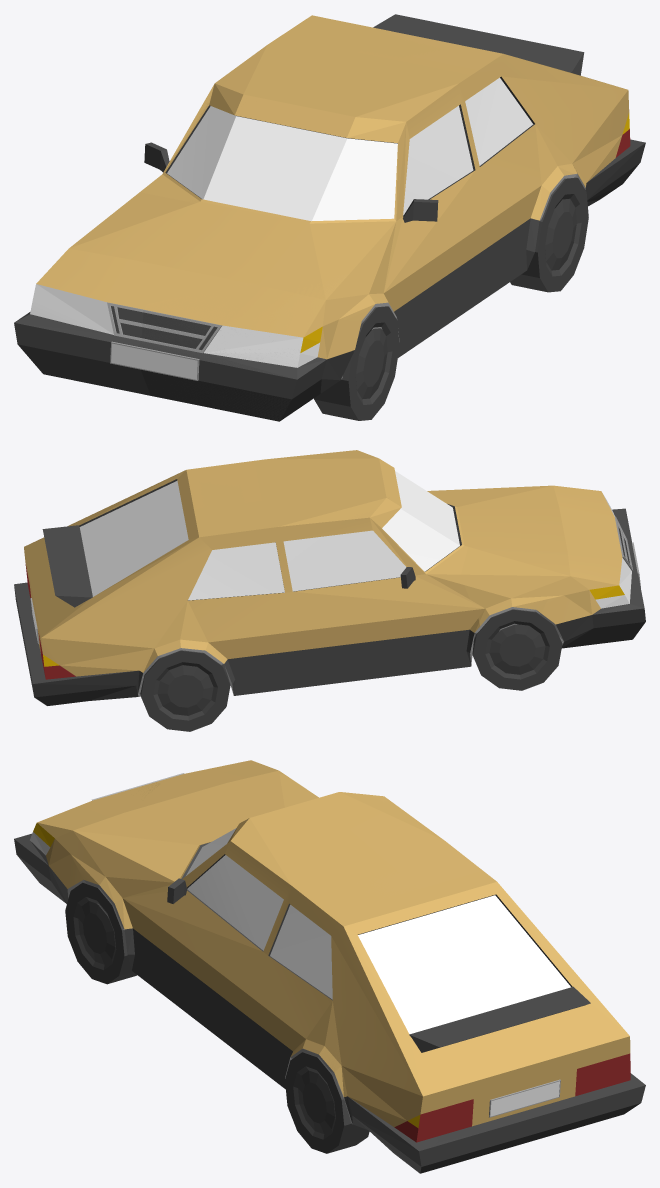
File: Car.fbx
3 renders of one model, top to bottom at view 1: azimuth 30°, elevation 25°; view 2: azimuth 150°, elevation 25°; view 3: azimuth 270°, elevation 25°, orthographic. The views are drawn at different scales.
Visible parts, largest first — view 1: Box012, Box012_sh_1, Box012_sh_8, Cylinder008, Box012_sh_5, Cylinder007, Box016, Box015, Box012_sh_6, Box014; view 2: Box012_sh_5, Box012, Box012_sh_4, Box012_sh_8, Cylinder007, Cylinder008, Box012_sh_3, Box012_sh_2, Box012_sh_6, Box016, Box012_sh_1; view 3: Box012, Box012_sh_4, Box012_sh_6, Box012_sh_5, Cylinder007, Cylinder008, Box012_sh_2, Box016, Box017, Box012_sh_8.
Part boxes in pixels (box(x1,y1,x2,y2)): Box012: box(14, 31, 645, 421); Box012_sh_1: box(139, 275, 369, 421); Box012_sh_8: box(140, 74, 403, 341); Cylinder008: box(314, 306, 399, 420); Box012_sh_5: box(227, 15, 391, 80); Cylinder007: box(510, 177, 588, 292); Box016: box(373, 14, 584, 75); Box015: box(110, 341, 199, 380); Box012_sh_6: box(328, 32, 585, 221); Box014: box(144, 142, 438, 222); Box012_sh_5: box(167, 493, 393, 695); Box012: box(14, 450, 644, 695); Box012_sh_4: box(14, 510, 173, 705); Box012_sh_8: box(341, 497, 481, 676); Cylinder007: box(140, 650, 230, 731); Cylinder008: box(472, 609, 562, 690); Box012_sh_3: box(541, 552, 645, 648); Box012_sh_2: box(37, 552, 171, 663); Box012_sh_6: box(102, 470, 338, 521); Box016: box(42, 525, 92, 607); Box012_sh_1: box(605, 498, 635, 563); Box012: box(14, 760, 572, 1173); Box012_sh_4: box(345, 916, 645, 1173); Box012_sh_6: box(204, 854, 440, 1102); Box012_sh_5: box(350, 807, 519, 931); Cylinder007: box(285, 1052, 369, 1153); Cylinder008: box(65, 882, 136, 984); Box012_sh_2: box(512, 908, 630, 1063); Box016: box(409, 986, 590, 1052); Box017: box(489, 1079, 560, 1117); Box012_sh_8: box(92, 792, 398, 929).
Bounding box in the file's own units: 885 × 298 × 751.
